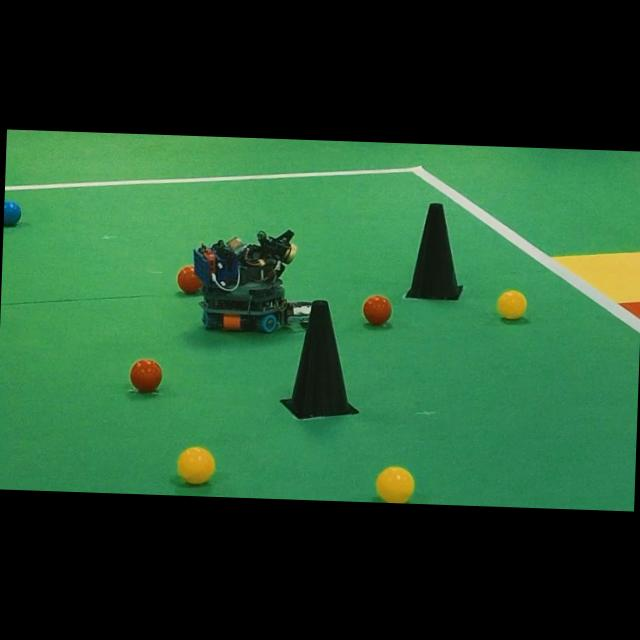ball: (375, 466, 414, 502), (177, 447, 214, 483), (130, 359, 161, 391), (497, 289, 527, 319), (363, 295, 391, 324), (176, 265, 201, 293), (3, 199, 21, 225)
goal: (552, 251, 640, 302), (620, 301, 640, 318)
